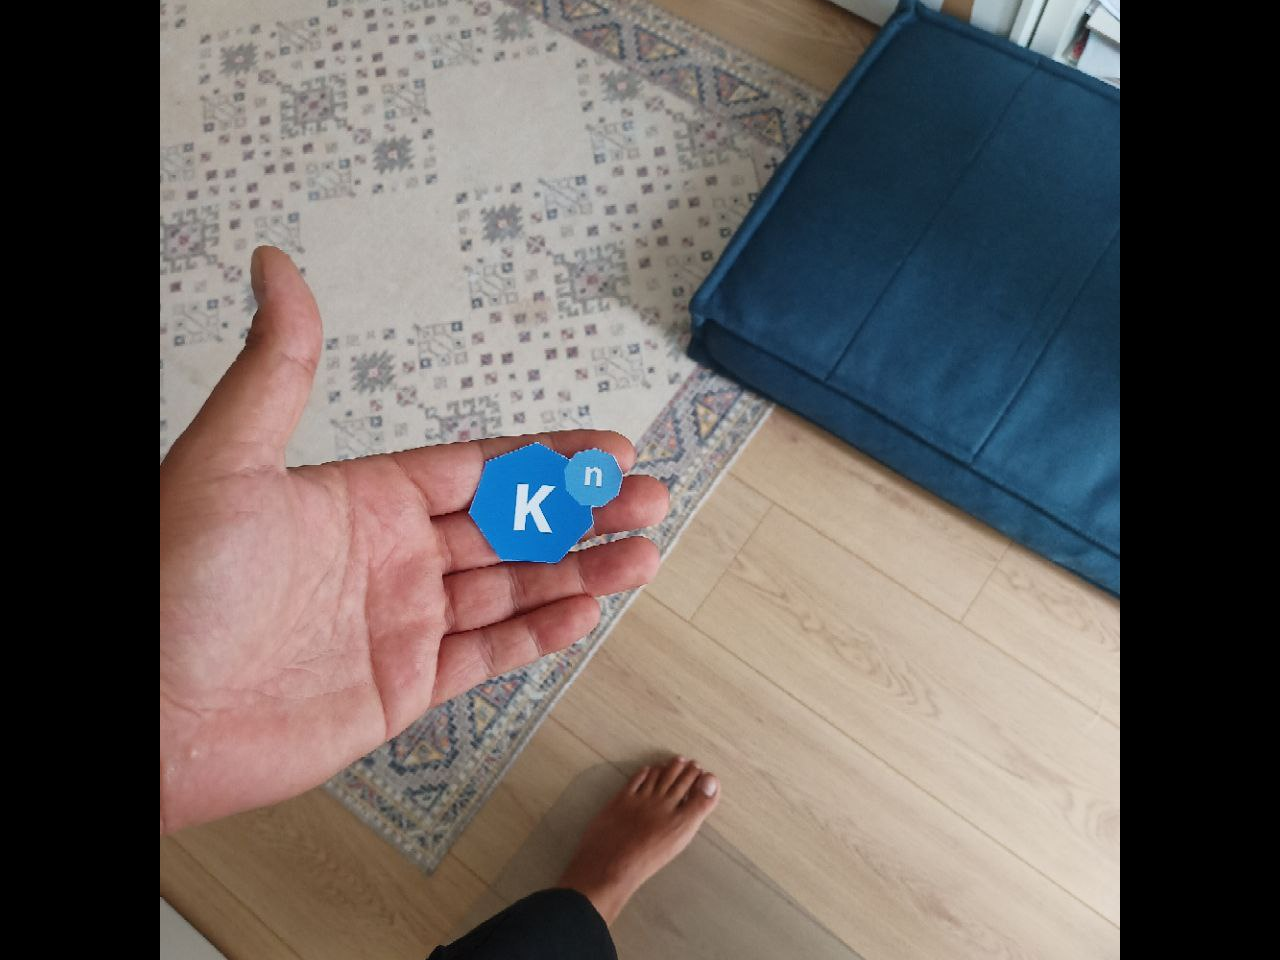knative: (465, 438, 624, 562)
